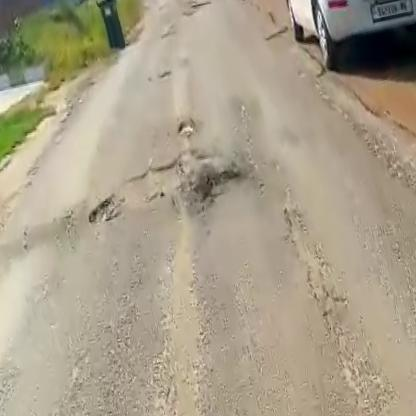pothole: (72, 155, 201, 228), (190, 160, 247, 207), (173, 113, 197, 141)
